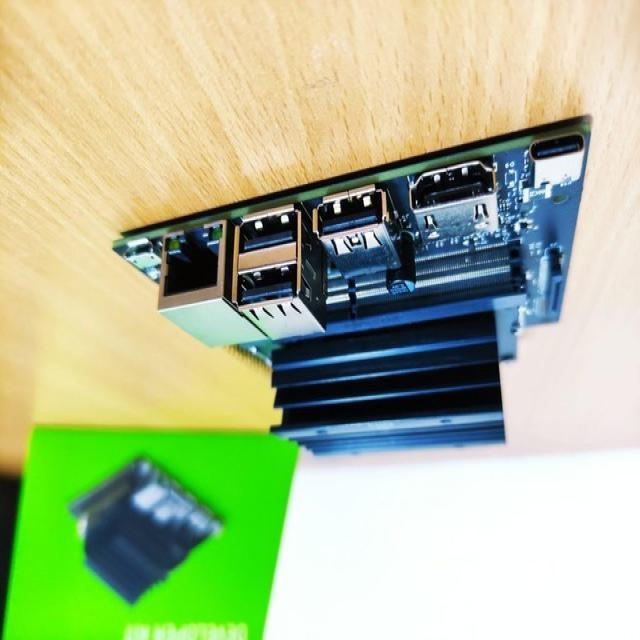Jetson Nano: (114, 127, 590, 458)
